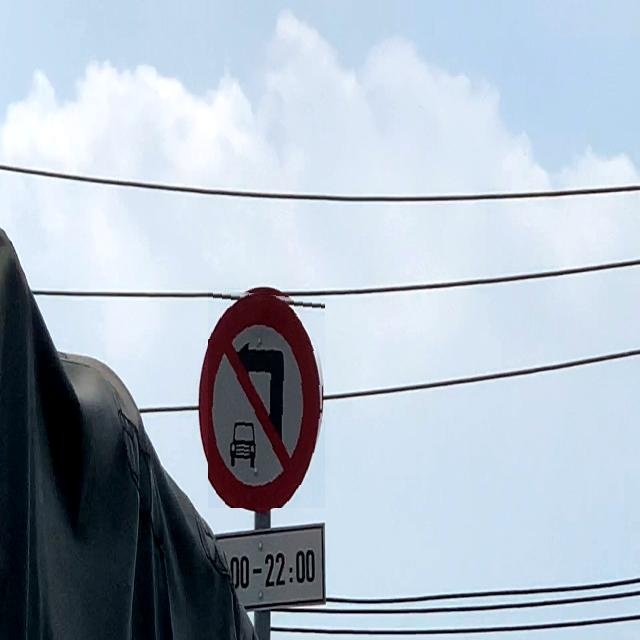bien_cam: (208, 288, 325, 508)
